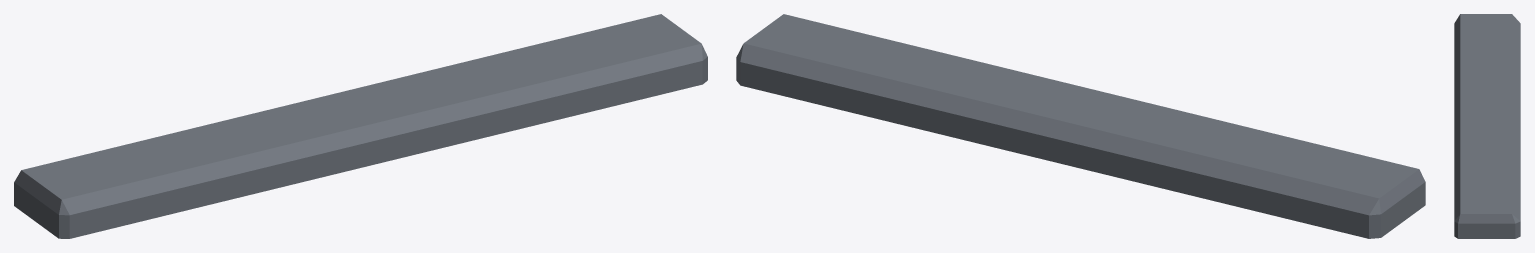
File: SM_Prop_CeilingLight4.fbx
The picture shows the model from 3 angles, left to right: view 1: azimuth 30°, elevation 25°; view 2: azimuth 150°, elevation 25°; view 3: azimuth 270°, elevation 25°; orthographic projection. The views are drawn at different scales.
Parts seen in each view (by area): view 1: SM_Prop_Light_Fluorescent_01; view 2: SM_Prop_Light_Fluorescent_01; view 3: SM_Prop_Light_Fluorescent_01.
Part boxes in pixels (<box>): SM_Prop_Light_Fluorescent_01: <box>14,14,707,238</box>; SM_Prop_Light_Fluorescent_01: <box>736,14,1425,238</box>; SM_Prop_Light_Fluorescent_01: <box>1454,14,1520,238</box>.
Bounding box in the file's own units: 193 × 11.42 × 26.59.
Materials: 1 (1 with a texture image).
